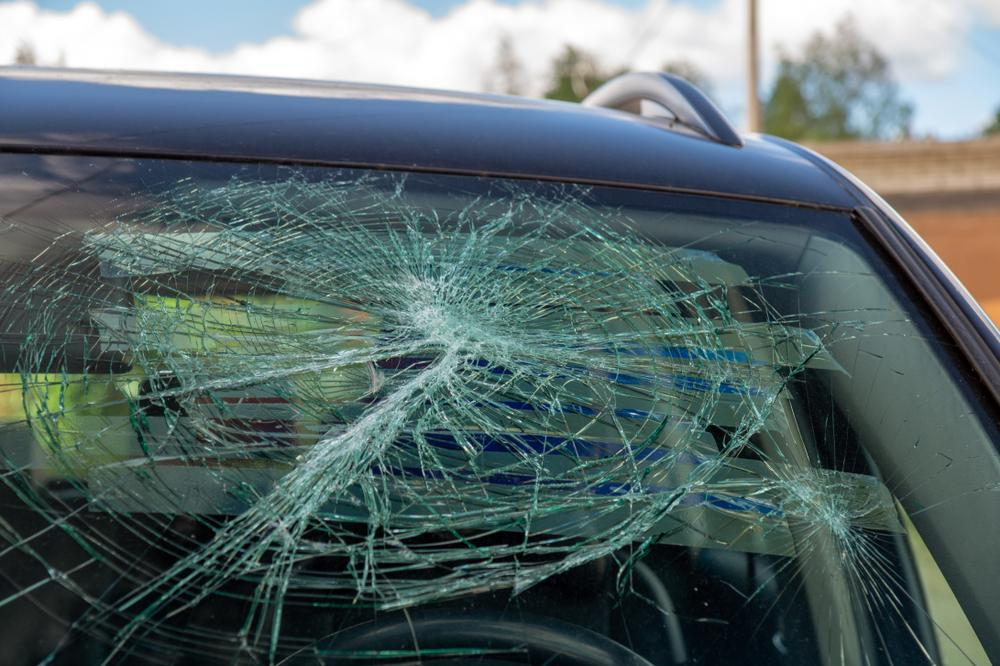glass shatter: (0, 152, 1000, 666)
